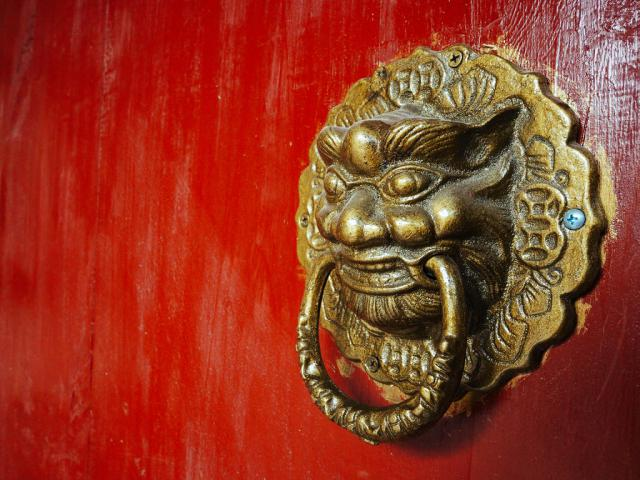Door-handle: (291, 40, 612, 450)
